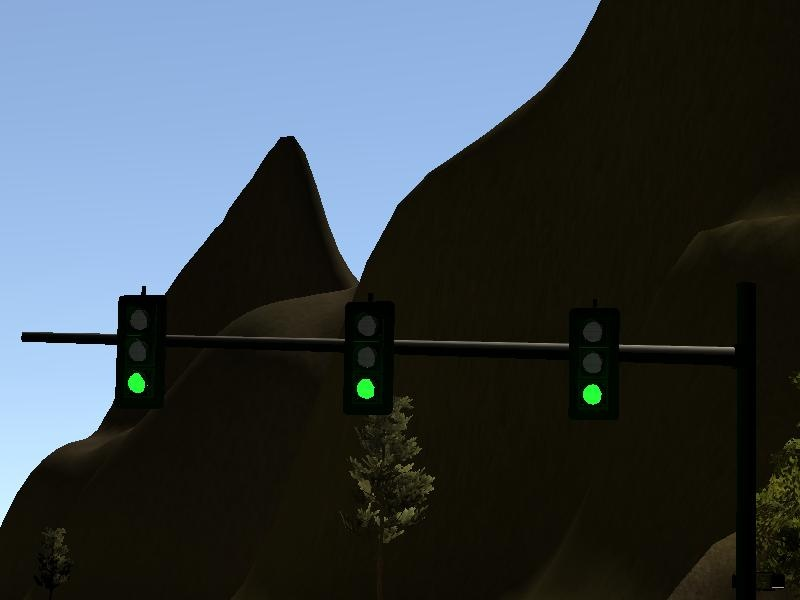green: (558, 298, 630, 424), (105, 285, 172, 412), (338, 293, 395, 418)
